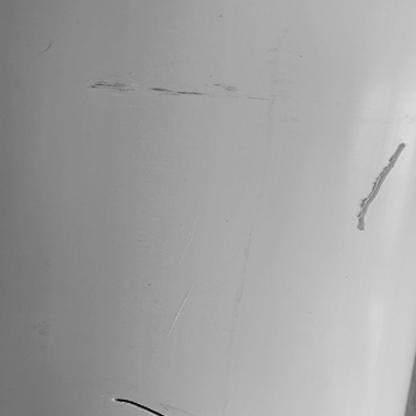fengxi: (109, 396, 169, 416)
sunshang: (358, 141, 404, 231), (91, 76, 229, 102)
